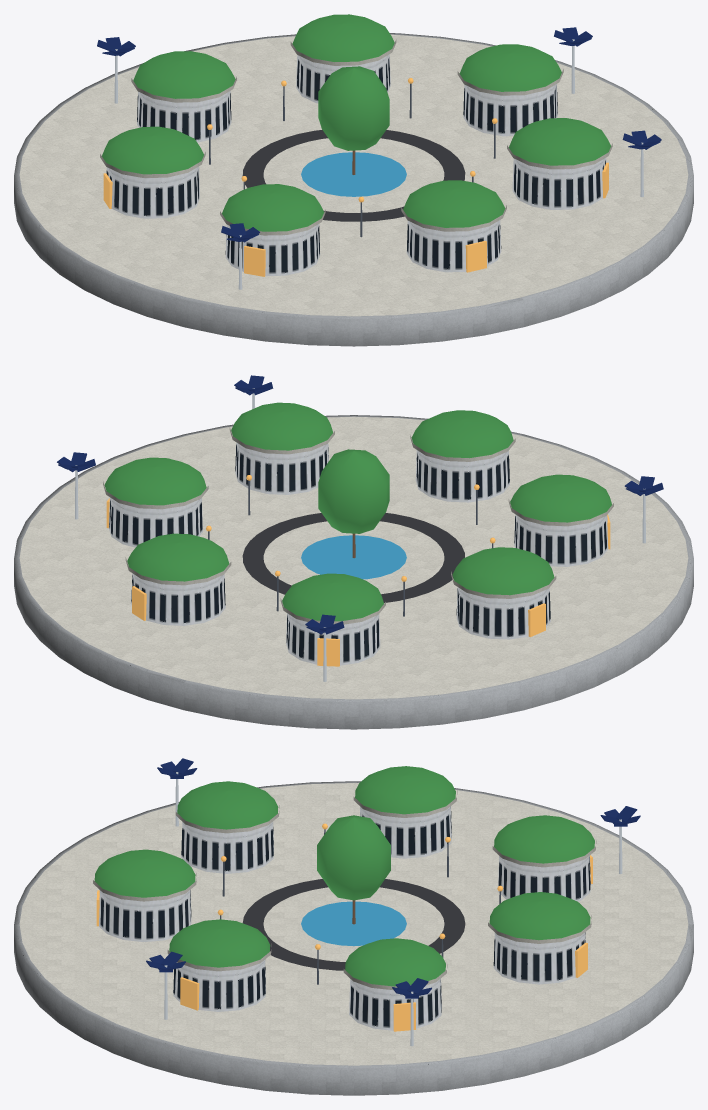
Rendered from earth_meadow_village.glb.
3 renders of one model, top to bottom at view 1: azimuth 30°, elevation 25°; view 2: azimuth 150°, elevation 25°; view 3: azimuth 270°, elevation 25°, orthographic.
Visible parts, largest first — view 1: earth_meadow_village_LOD0; view 2: earth_meadow_village_LOD0; view 3: earth_meadow_village_LOD0.
Boxes of the visible parts, <box> form: earth_meadow_village_LOD0: <box>14,14,693,346</box>; earth_meadow_village_LOD0: <box>14,375,693,729</box>; earth_meadow_village_LOD0: <box>14,758,693,1095</box>.
Size of what is drawn, in the model's own units: 48.8 by 10.68 by 48.8.
3 materials, 3 textured.
